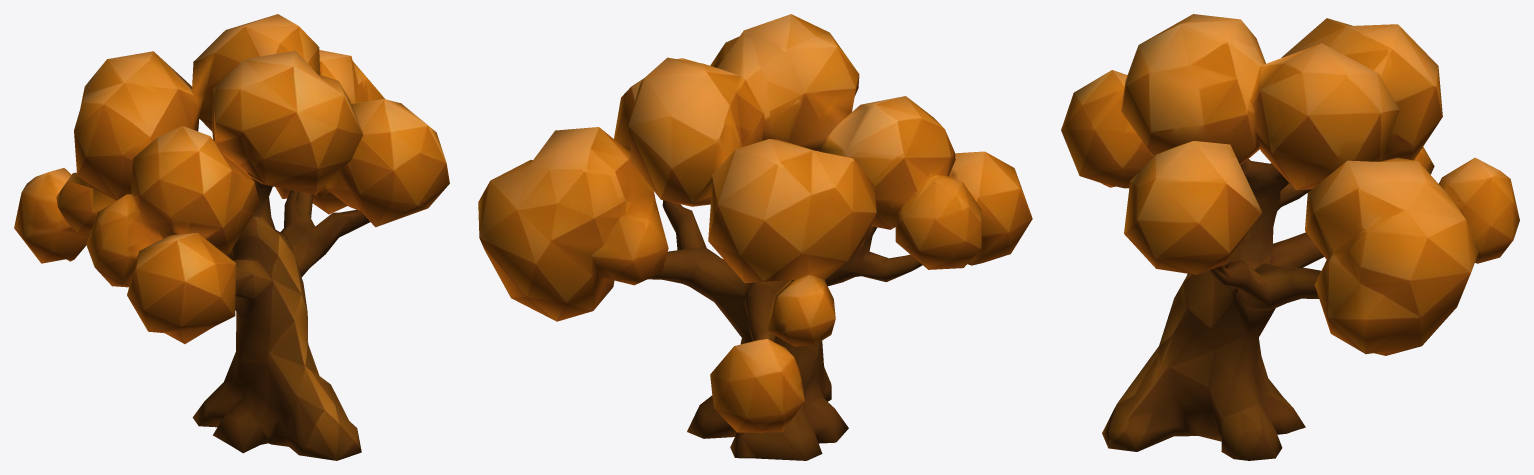
The model's file is agac.glb.
3 renders of one model, left to right at view 1: azimuth 30°, elevation 25°; view 2: azimuth 150°, elevation 25°; view 3: azimuth 270°, elevation 25°, orthographic. The views are drawn at different scales.
Parts seen in each view (by area): view 1: material; view 2: material; view 3: material.
Part boxes in pixels (left/top/right/bottom): material: left=14, top=14, right=449, bottom=460; material: left=478, top=14, right=1032, bottom=460; material: left=1061, top=14, right=1519, bottom=460.
Bounding box in the file's own units: 1.9 × 1.81 × 1.84.
Materials: 1 (1 with a texture image).
